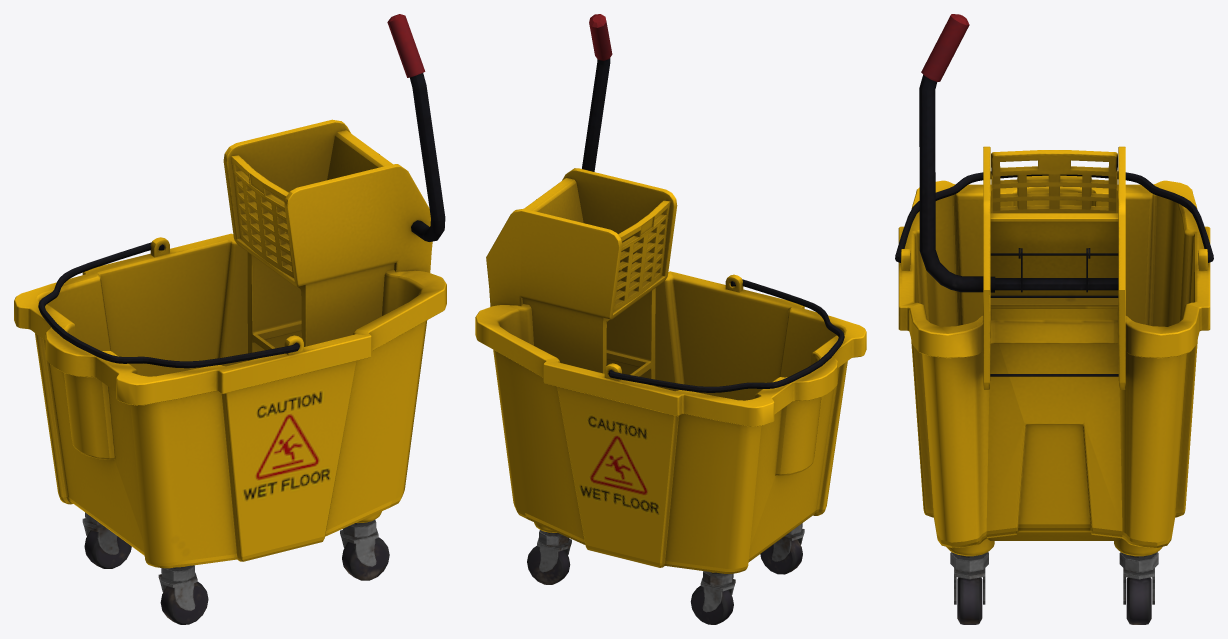
The model's file is yellow_cleaning_bucket.glb.
3 views of the same model, side by side, from view 1: azimuth 30°, elevation 25°; view 2: azimuth 150°, elevation 25°; view 3: azimuth 270°, elevation 25° (orthographic). The views are drawn at different scales.
Visible parts, largest first — view 1: Object_2; view 2: Object_2; view 3: Object_2.
Part boxes in pixels (box(x1,y1,x2,y2)): Object_2: box(14, 14, 446, 624); Object_2: box(475, 14, 866, 624); Object_2: box(895, 14, 1213, 624).
Bounding box in the file's own units: 57.47 × 88.02 × 40.9.
1 material, 1 textured.
